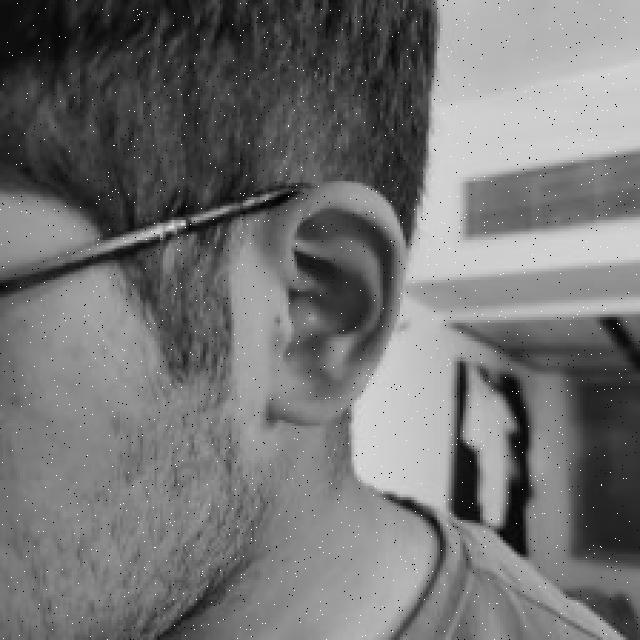ear: (266, 180, 400, 420)
